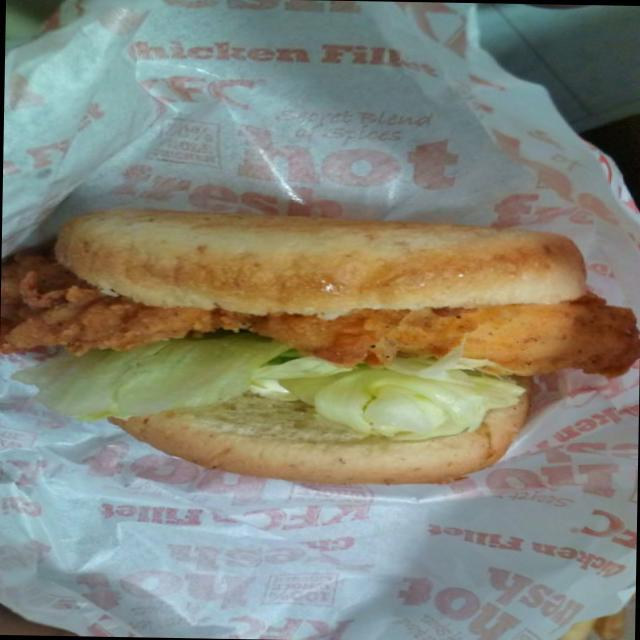Hamburger: (0, 213, 640, 507)
